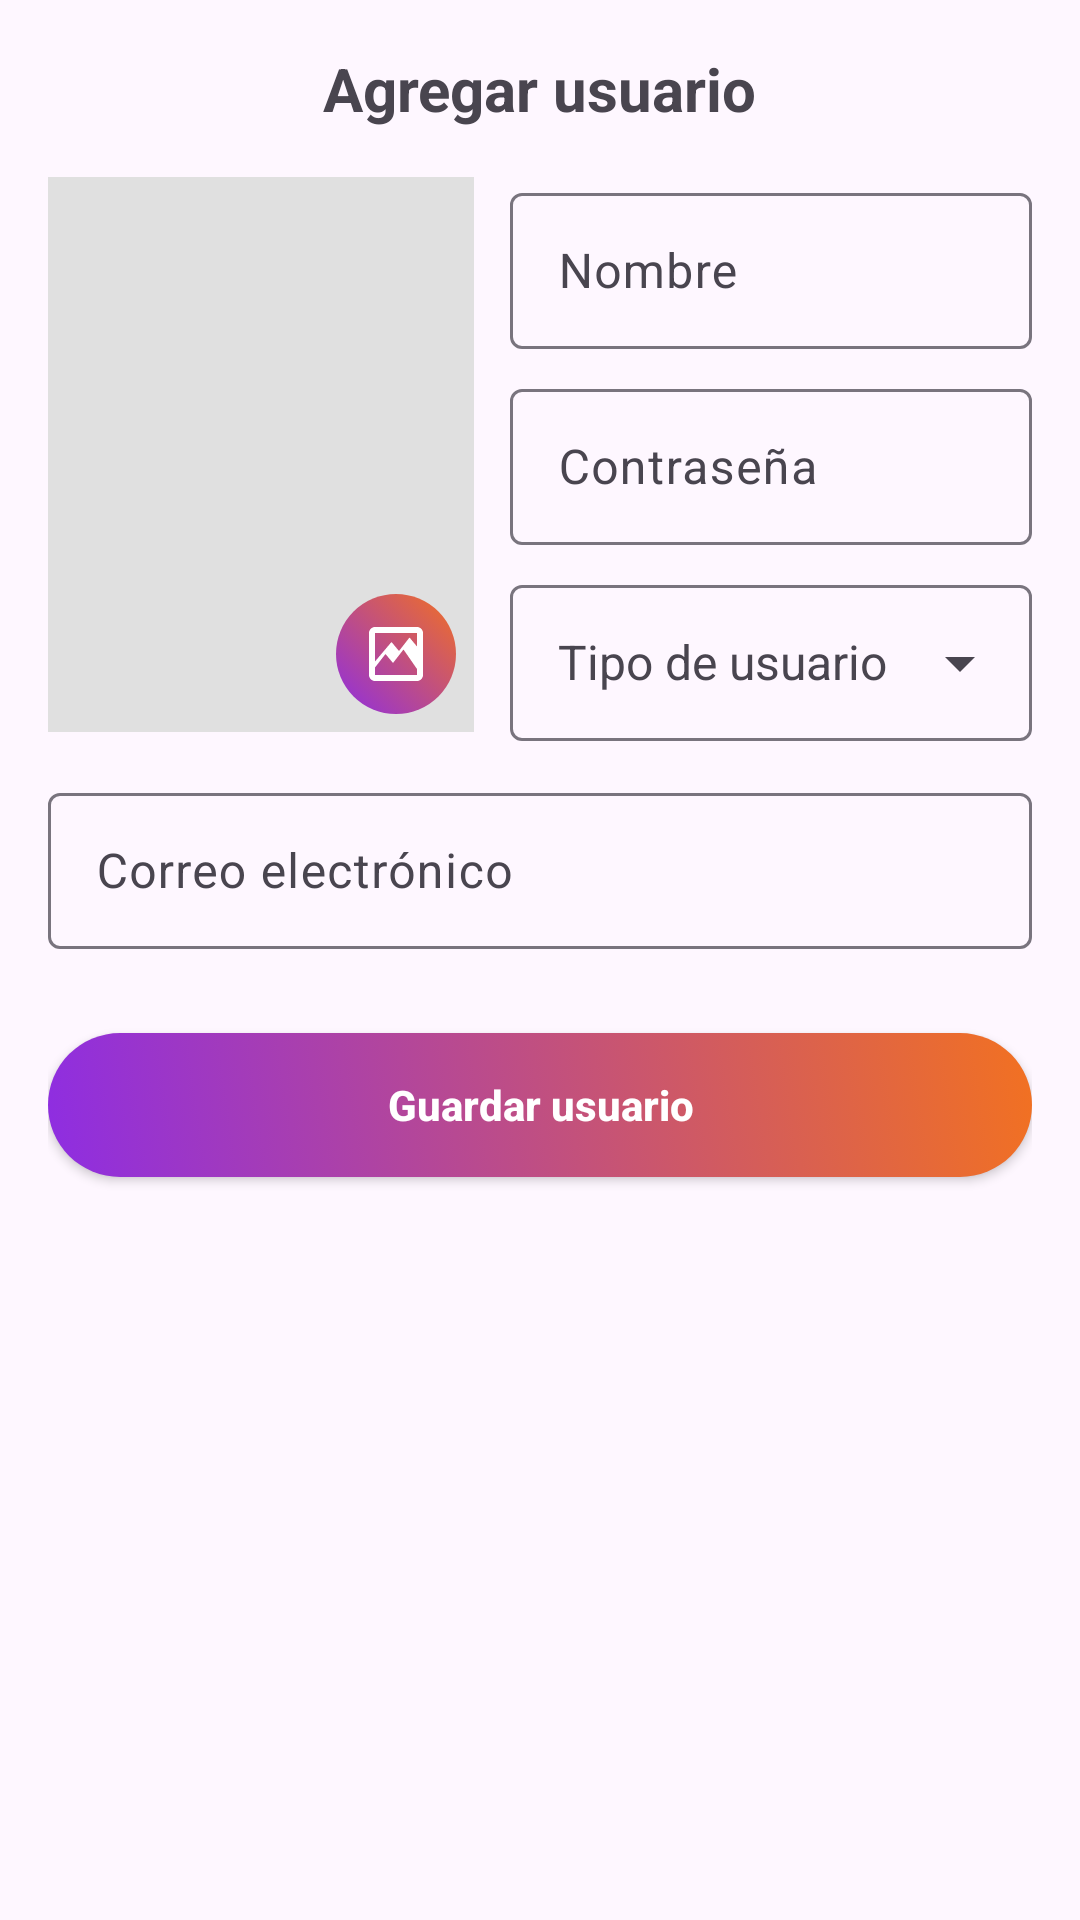

Named icons in this screenshot (1080px x 1920px) and their bounding boxes, (x1, y1, x2, y2):
Seleccionar imagen de perfil: (336, 594, 456, 714)
